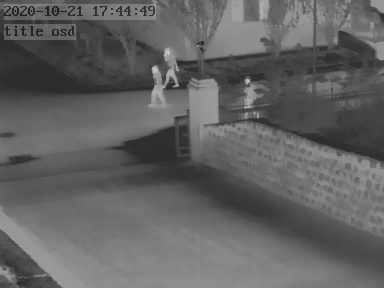person: (149, 61, 166, 105), (242, 75, 258, 116), (165, 47, 181, 86)
